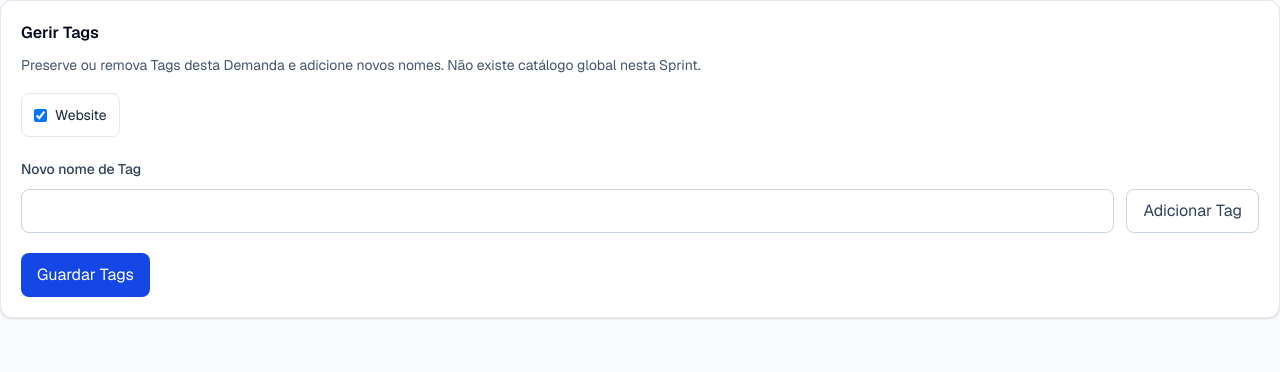
Test: Demand operational controls › keeps Tag state on failure
The image size is (1280, 372).
What coordinates should you click on to do the following:
click the button "Guardar Tags"
I would click on:
 (85, 275)
Its box is [21,253,150,297].
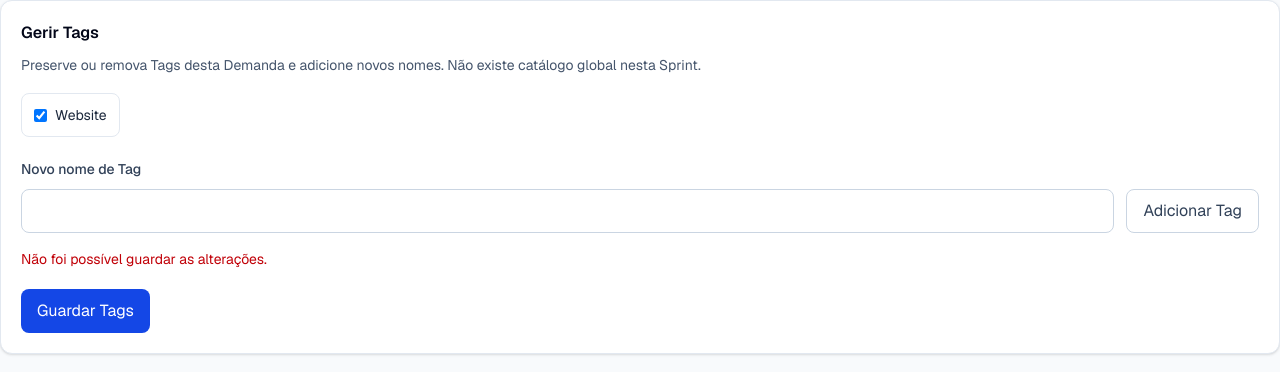
Expected: the checkbox labelled "Website" is checked, [34,108,47,122]
Expected: the message shows "Não foi possível guardar", [21,250,267,268]
